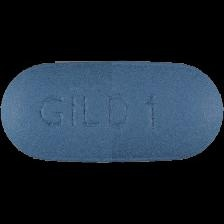69189-0701: (0, 0, 224, 224)
